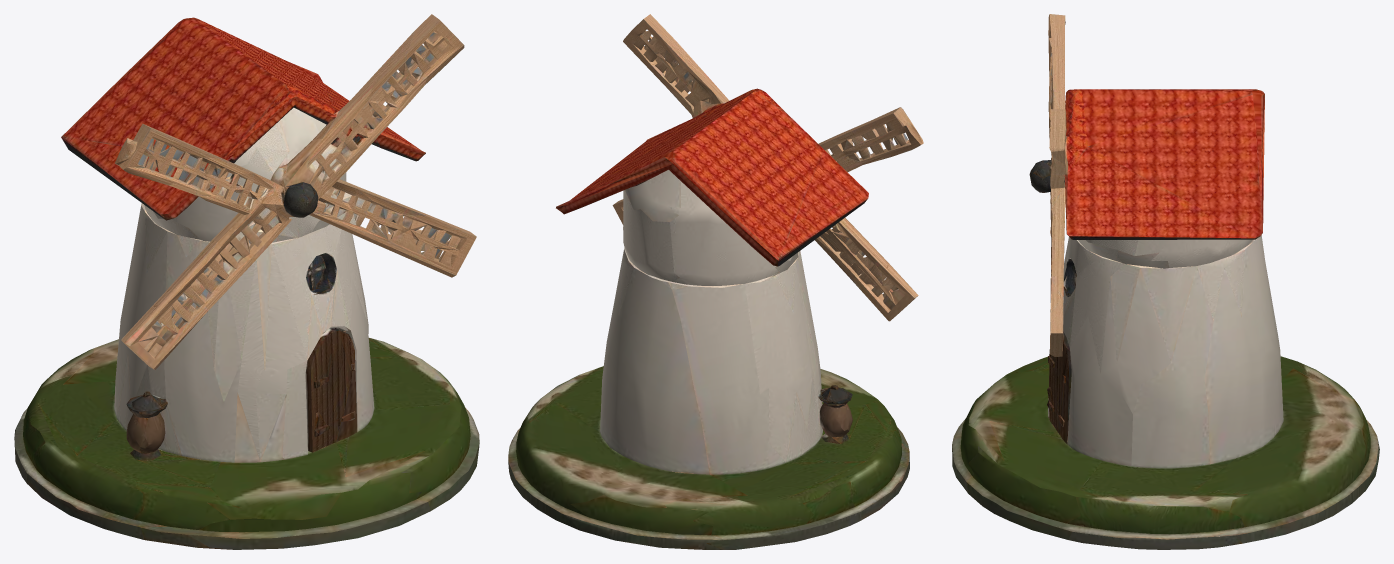
The model's file is windmill.glb.
3 views of the same model, side by side, from view 1: azimuth 30°, elevation 25°; view 2: azimuth 150°, elevation 25°; view 3: azimuth 270°, elevation 25° (orthographic). The views are drawn at different scales.
Bounding box in the file's own units: 1.8 × 1.9 × 1.8.
1 material, 1 textured.
